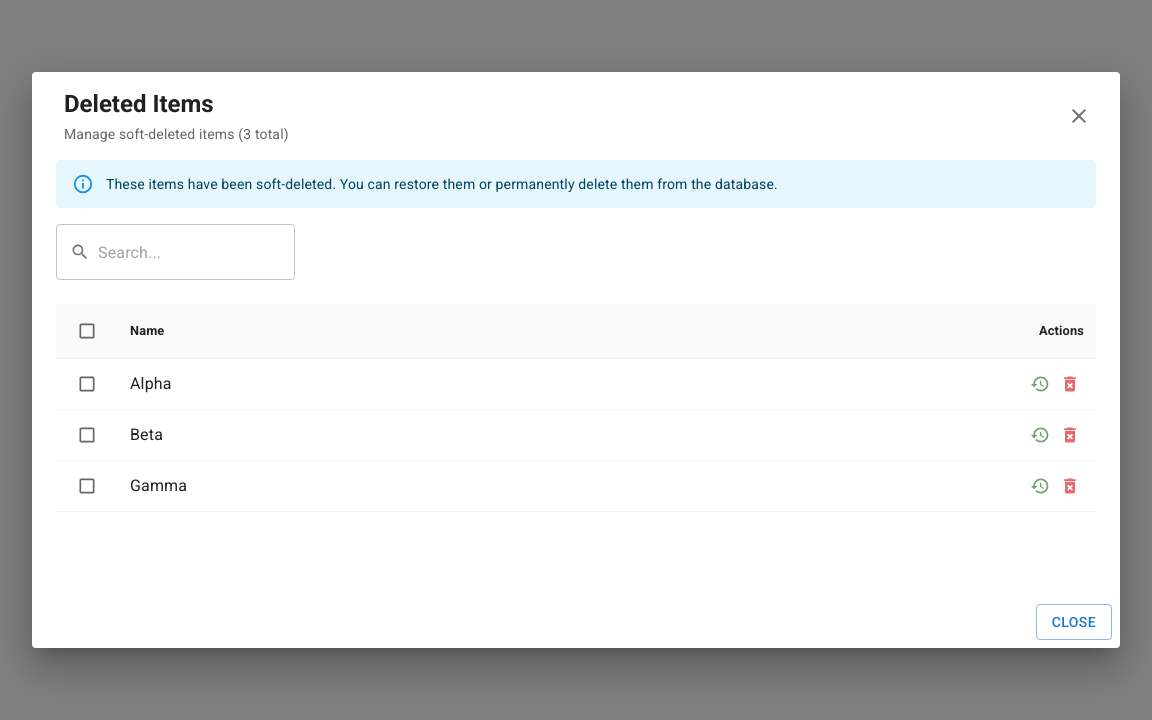
it: GenericDeletedDialog › select all checkbox selects all filtered items
The width and height of the screenshot is (1152, 720).
Click the checkbox next to "Name" at [87, 331], box [77, 321, 97, 341]
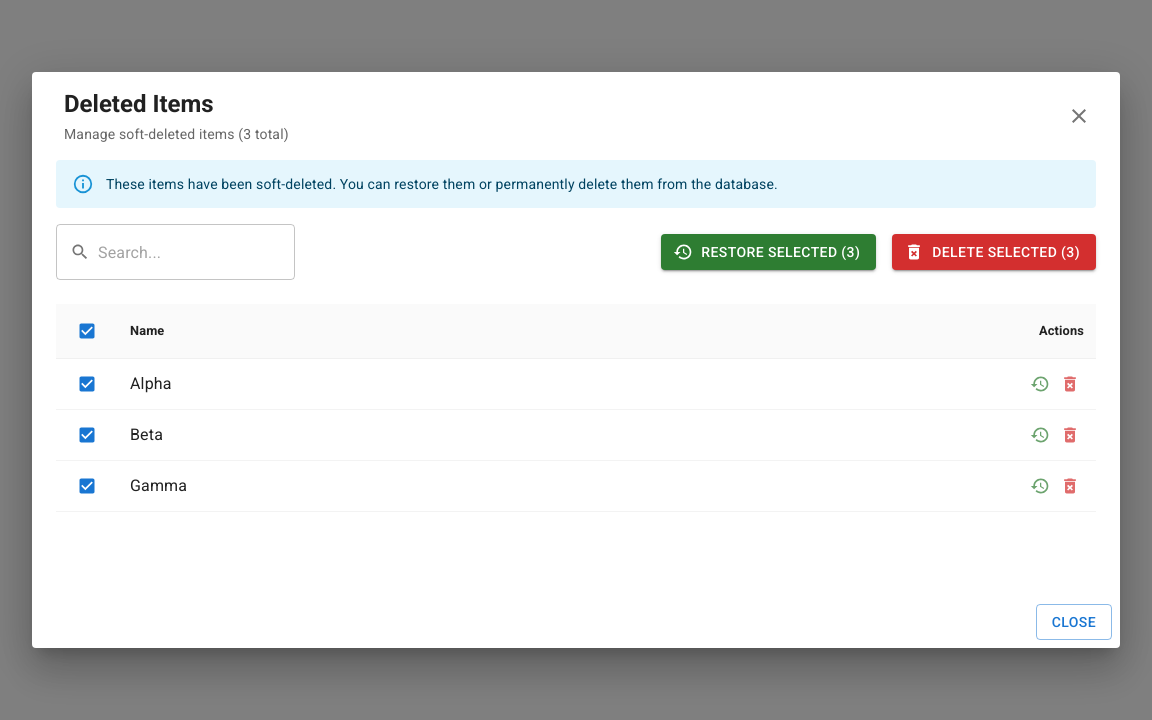
Expected: the button "Restore Selected (3)" is shown, [661, 234, 876, 270]
